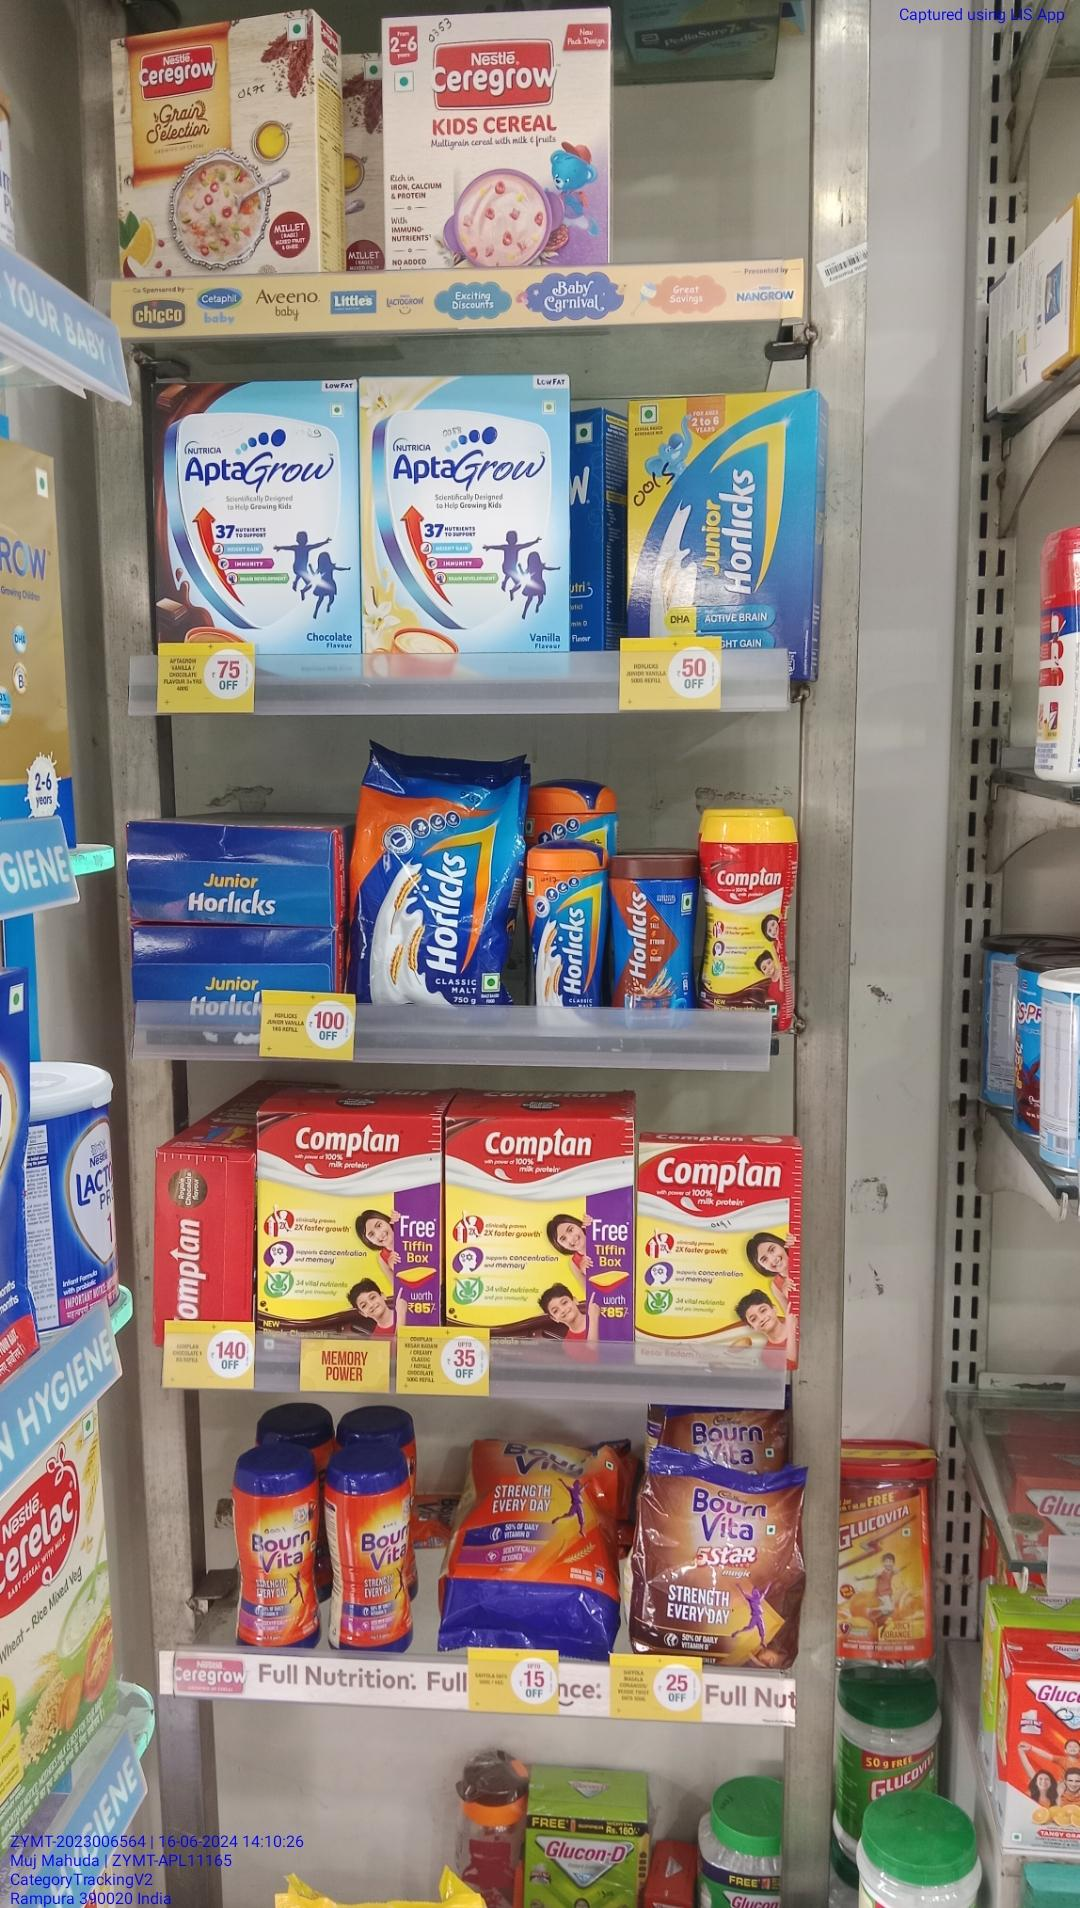BOURN_VITA_500_G_JAR: (232, 1456, 321, 1654), (326, 1457, 414, 1654)
BOURN_VITA_FIVE_STAR_MAGIC_500_G_POUCH: (636, 1448, 798, 1658)
COMPLAN_CHOCOLATE_500_GMS_JAR: (704, 814, 797, 1034)
COMPLAN_KESAR_BADAM_200_GMS_PACK: (638, 1140, 800, 1371)
HORLICK_CHOCOLATE_500_G_JAR: (609, 856, 696, 1026)
HORLICK_CLASSIC_MALT_500_G_JAR: (522, 848, 606, 1008)
